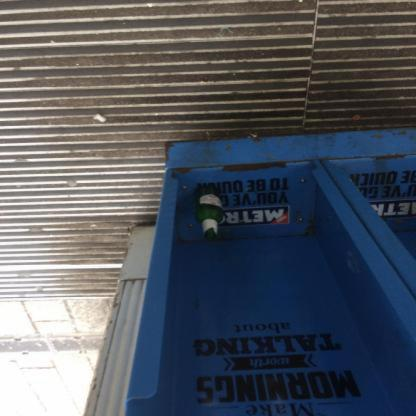Bottle cap: (193, 186, 223, 242)
Unlabeled litter: (93, 113, 107, 124)
